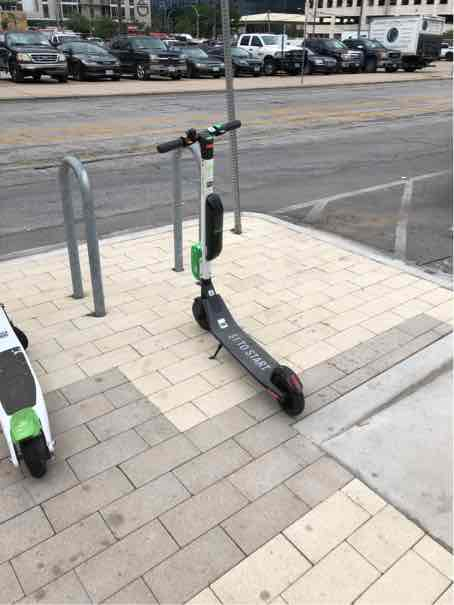scooter: (135, 114, 317, 419)
